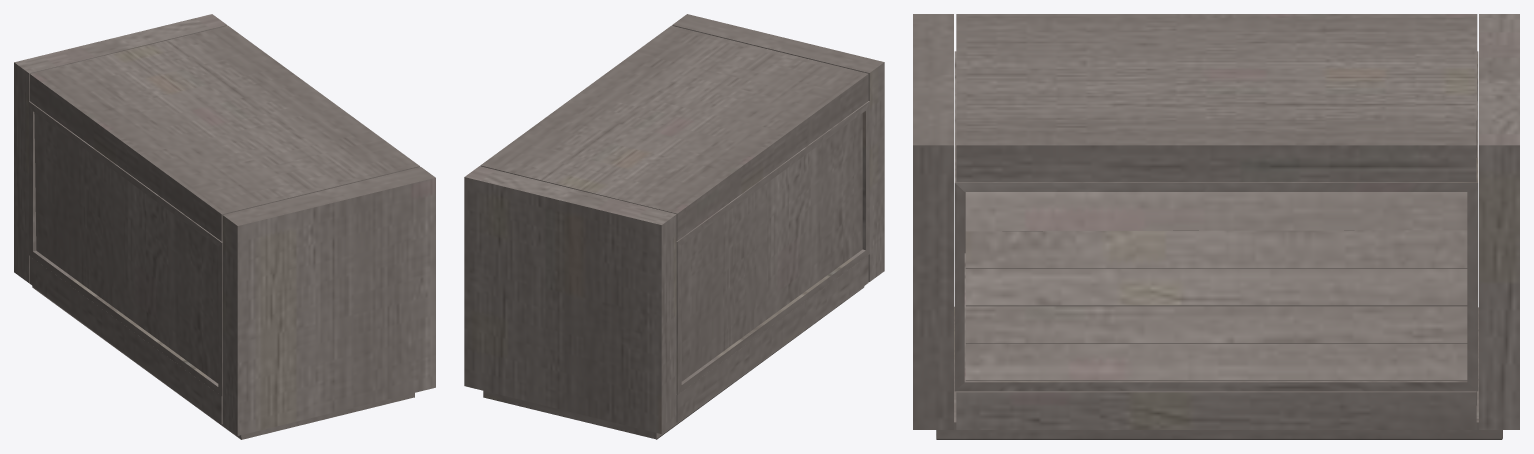
Rendered from Cupboard0015.obj.
3 renders of one model, left to right at view 1: azimuth 30°, elevation 25°; view 2: azimuth 150°, elevation 25°; view 3: azimuth 270°, elevation 25°, orthographic. The views are drawn at different scales.
Bounding box in the file's own units: 0.403 × 0.433 × 0.786.
1 material, 1 textured.
